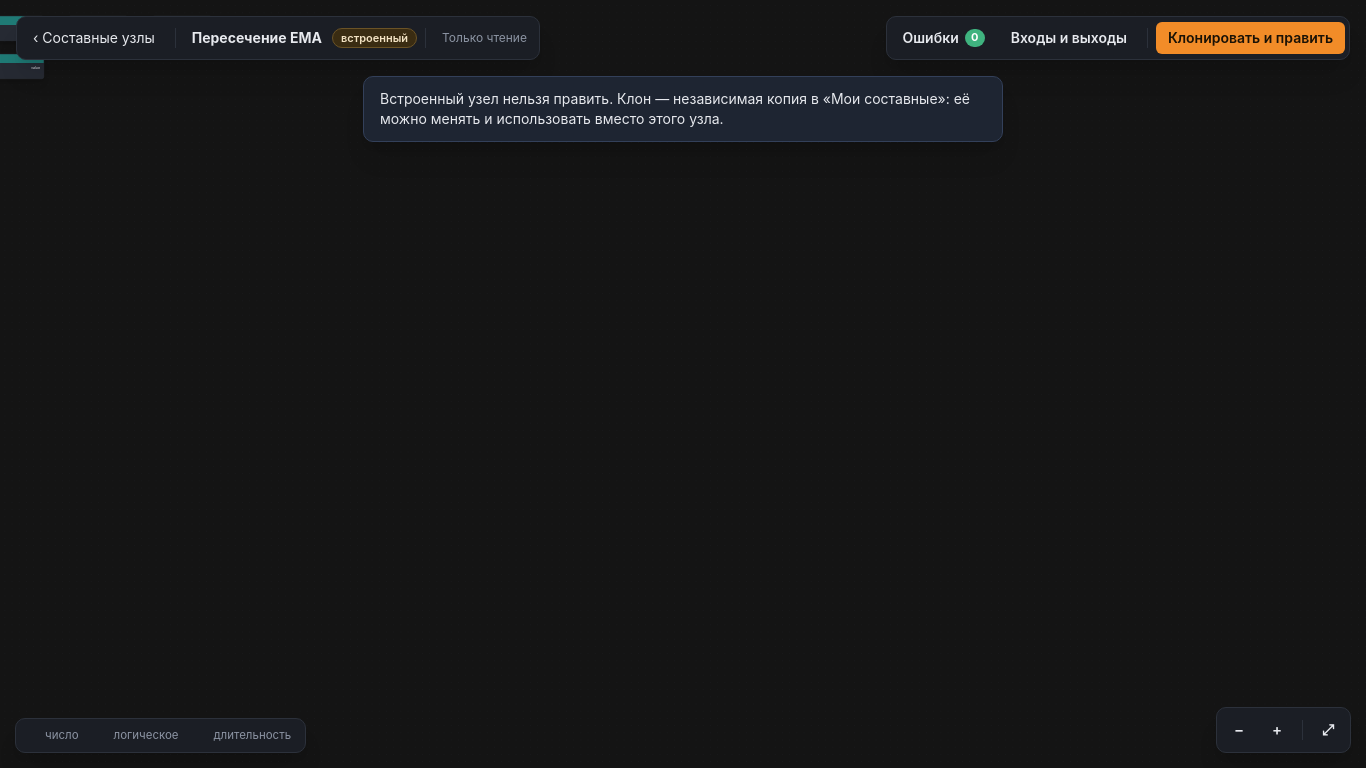
Test: built-in composite node › clones the node and opens the clone to edit
Click the button "Клонировать и править": (1250,38) [1156,22,1345,54]
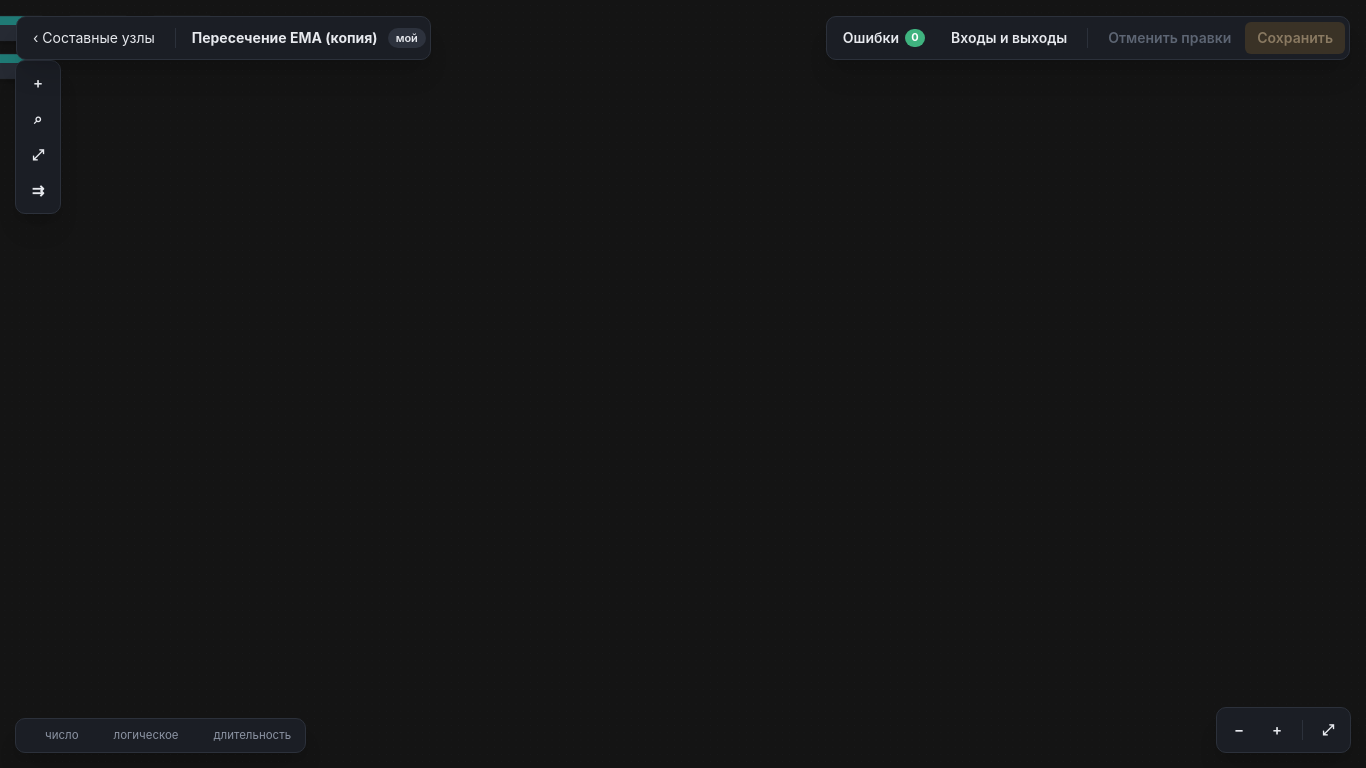
Check: the button "Сохранить" is shown, box [1245,22,1345,54]
Check: the button named "Добавить узел" is shown, box [21,66,55,100]
